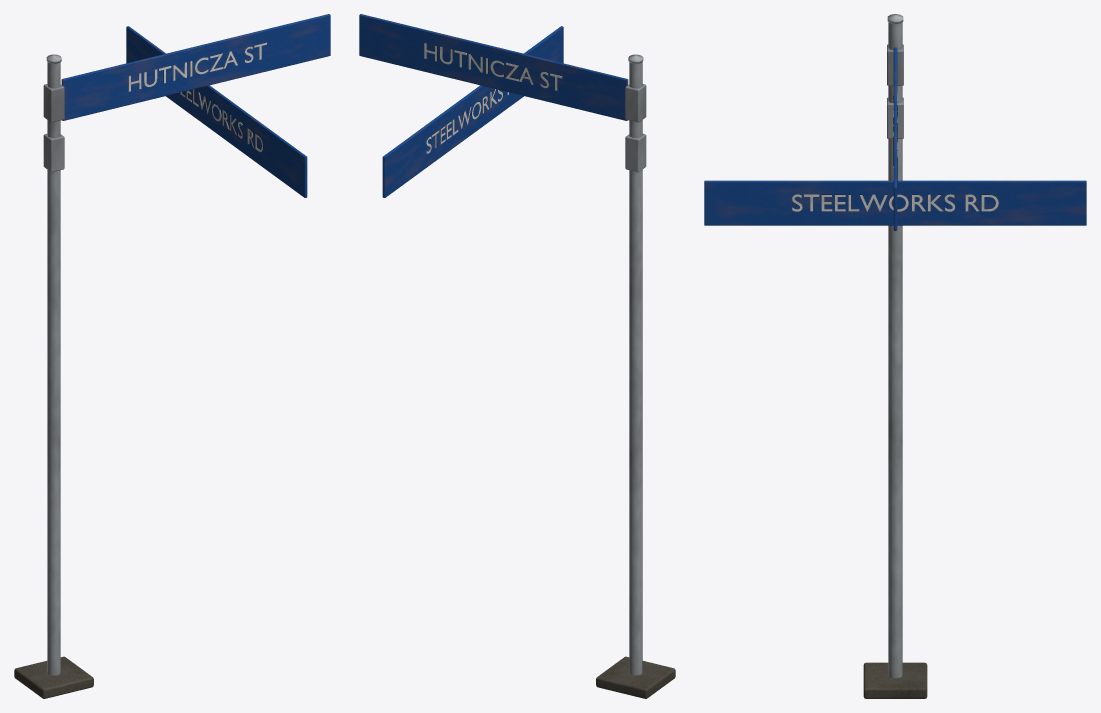
File: znak_ulica_c.glb
3 views of the same model, side by side, from view 1: azimuth 30°, elevation 25°; view 2: azimuth 150°, elevation 25°; view 3: azimuth 270°, elevation 25° (orthographic). The views are drawn at different scales.
Visible parts, largest first — view 1: Tarcza, Slupek; view 2: Tarcza, Slupek; view 3: Tarcza, Slupek.
Part boxes in pixels (bbox=[...]): Tarcza: bbox=[61, 14, 330, 197]; Slupek: bbox=[14, 54, 93, 698]; Tarcza: bbox=[359, 14, 628, 197]; Slupek: bbox=[596, 54, 675, 698]; Tarcza: bbox=[704, 47, 1086, 230]; Slupek: bbox=[863, 14, 927, 698].
Bounding box in the file's own units: 1.52 × 3.03 × 1.57.
2 materials, 2 textured.
